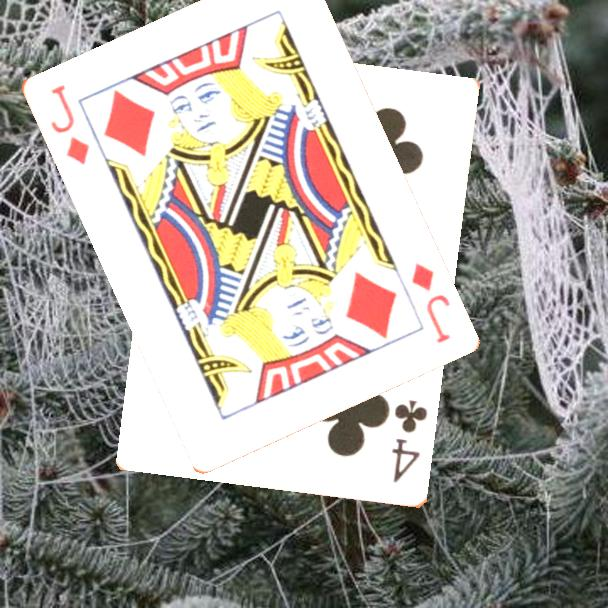c04: (389, 397, 431, 486)
d11: (46, 81, 92, 168), (407, 259, 453, 346)
